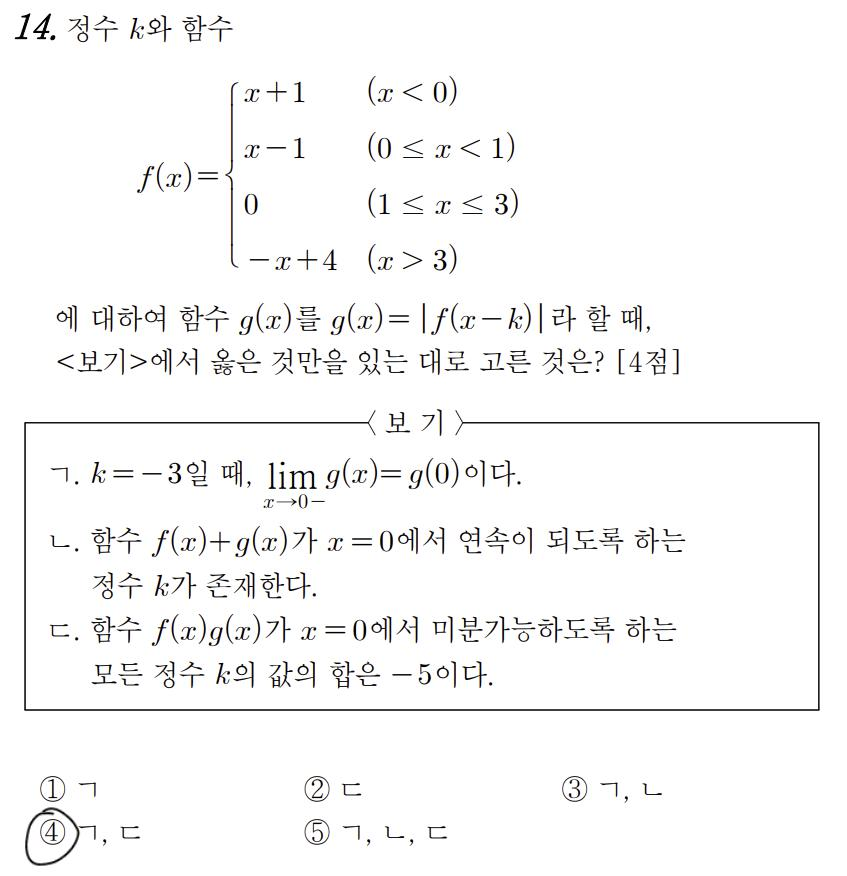1: (22, 808, 80, 864)
paper: (557, 774, 591, 804), (302, 775, 336, 805), (35, 775, 69, 805), (34, 818, 68, 848), (302, 817, 336, 847)
